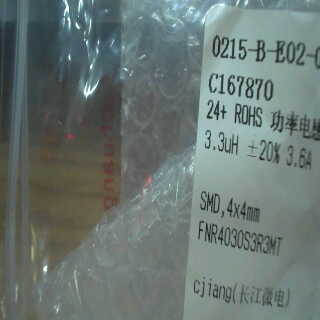3.3uH: (201, 126, 242, 164)
